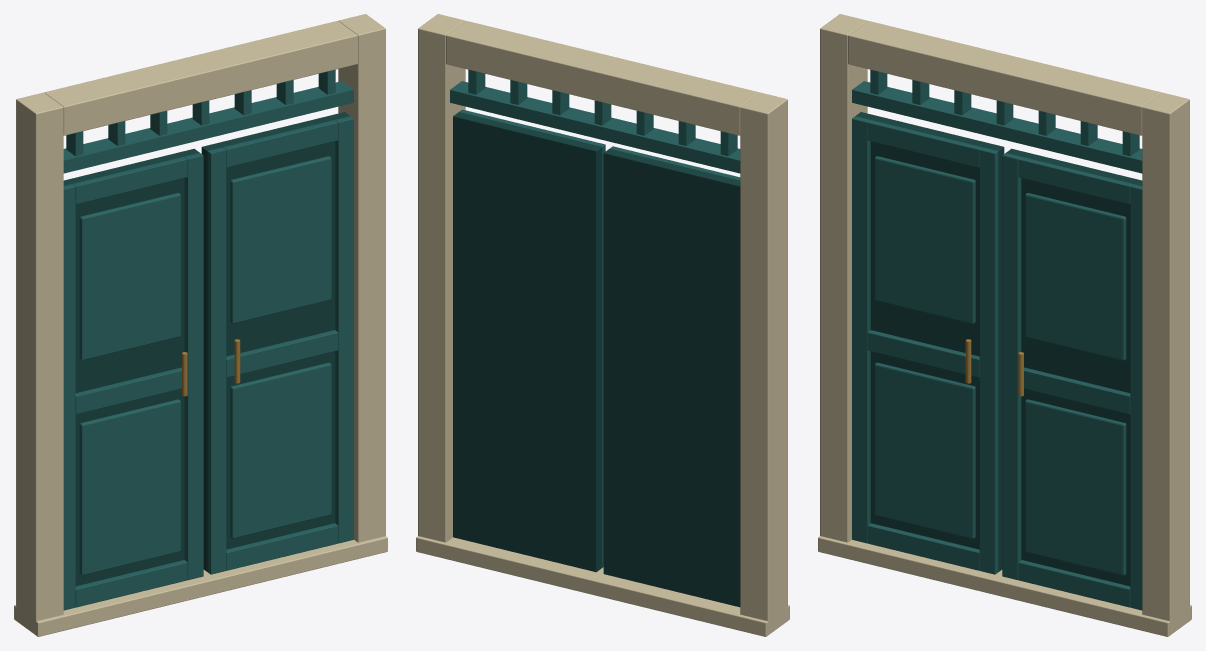
The picture shows the model from 3 angles, left to right: view 1: azimuth 30°, elevation 25°; view 2: azimuth 150°, elevation 25°; view 3: azimuth 330°, elevation 25°; orthographic projection.
Parts seen in each view (by area): view 1: DOOR_Jamb, DOOR_Jamb.001, Right_RaisedPanel, Left_RaisedPanel, Right_RaisedPanel.001, Left_RaisedPanel.001, DOOR_Header, Right_Core, Left_Core, Right_Stile.001, Left_Stile.001, Right_Stile (+9 smaller); view 2: Right_Core, Left_Core, DOOR_Jamb, DOOR_Jamb.001, DOOR_Header, DOOR_Sill, TRANSOM_Rail, Right_Stile.001; view 3: DOOR_Jamb.001, DOOR_Jamb, Left_RaisedPanel, Right_RaisedPanel, Left_RaisedPanel.001, Right_RaisedPanel.001, DOOR_Header, Left_Core, Right_Core, Left_Stile.001, Right_Stile.001, Left_Stile (+9 smaller).
Part boxes in pixels (left/top/right/bottom): DOOR_Jamb: left=16, top=92, right=63, bottom=634; DOOR_Jamb.001: left=338, top=14, right=385, bottom=542; Right_RaisedPanel: left=230, top=362, right=331, bottom=538; Left_RaisedPanel: left=79, top=399, right=180, bottom=575; Right_RaisedPanel.001: left=230, top=156, right=331, bottom=323; Left_RaisedPanel.001: left=79, top=193, right=180, bottom=360; DOOR_Header: left=44, top=21, right=357, bottom=135; Right_Core: left=201, top=112, right=350, bottom=571; Left_Core: left=63, top=148, right=199, bottom=586; Right_Stile.001: left=207, top=147, right=226, bottom=574; Left_Stile.001: left=184, top=153, right=203, bottom=579; Right_Stile: left=335, top=116, right=353, bottom=543; Right_Core: left=453, top=112, right=602, bottom=572; Left_Core: left=603, top=148, right=740, bottom=607; DOOR_Jamb: left=740, top=92, right=787, bottom=634; DOOR_Jamb.001: left=418, top=14, right=465, bottom=542; DOOR_Header: left=446, top=21, right=759, bottom=135; DOOR_Sill: left=416, top=536, right=789, bottom=636; TRANSOM_Rail: left=450, top=81, right=740, bottom=173; Right_Stile.001: left=587, top=140, right=605, bottom=567; DOOR_Jamb.001: left=1142, top=92, right=1189, bottom=634; DOOR_Jamb: left=820, top=14, right=867, bottom=542; Left_RaisedPanel: left=874, top=362, right=975, bottom=538; Right_RaisedPanel: left=1025, top=399, right=1126, bottom=575; Left_RaisedPanel.001: left=874, top=156, right=975, bottom=323; Right_RaisedPanel.001: left=1025, top=193, right=1126, bottom=360; DOOR_Header: left=848, top=21, right=1161, bottom=135; Left_Core: left=855, top=112, right=1004, bottom=571; Right_Core: left=1006, top=148, right=1142, bottom=586; Left_Stile.001: left=979, top=147, right=998, bottom=574; Right_Stile.001: left=1002, top=153, right=1021, bottom=579; Left_Stile: left=852, top=116, right=870, bottom=543.
Size of the model in its own units: 2 by 2.85 by 0.24.
